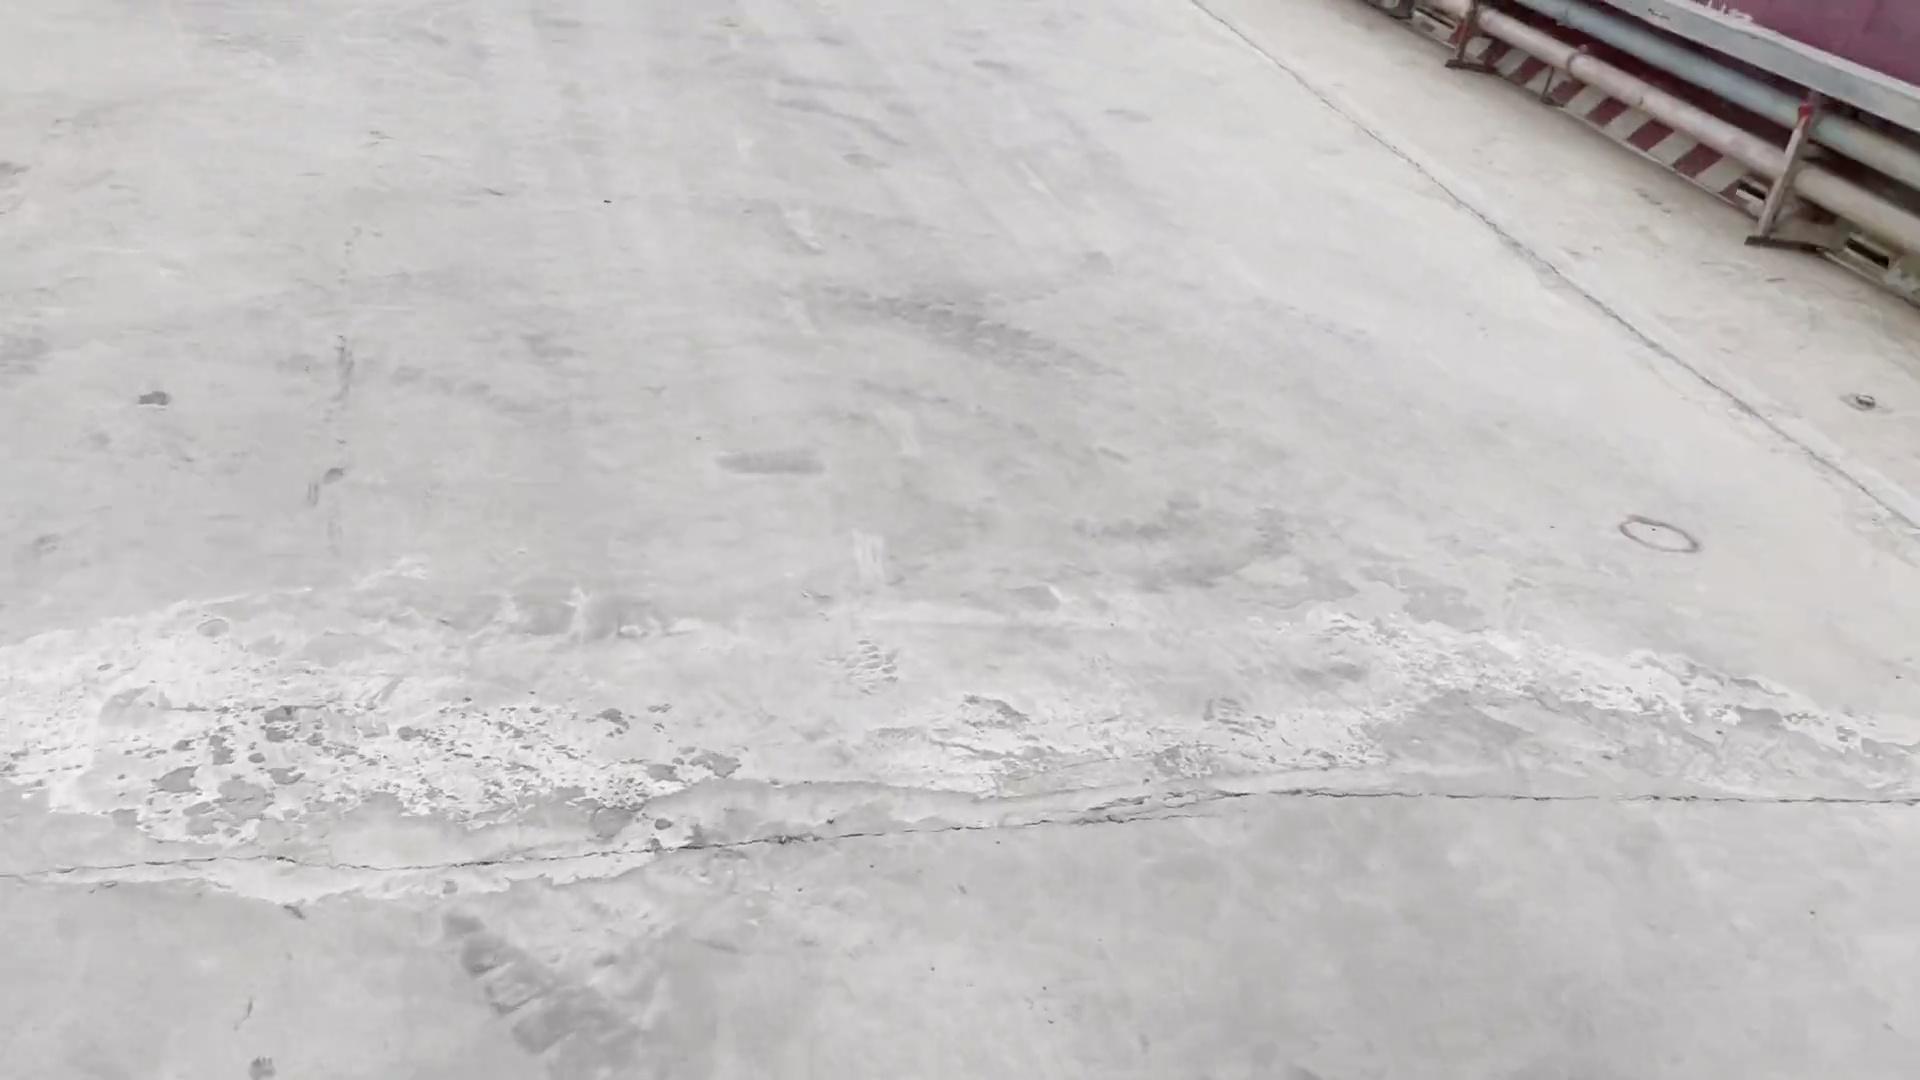fence: (1411, 4, 1920, 287)
